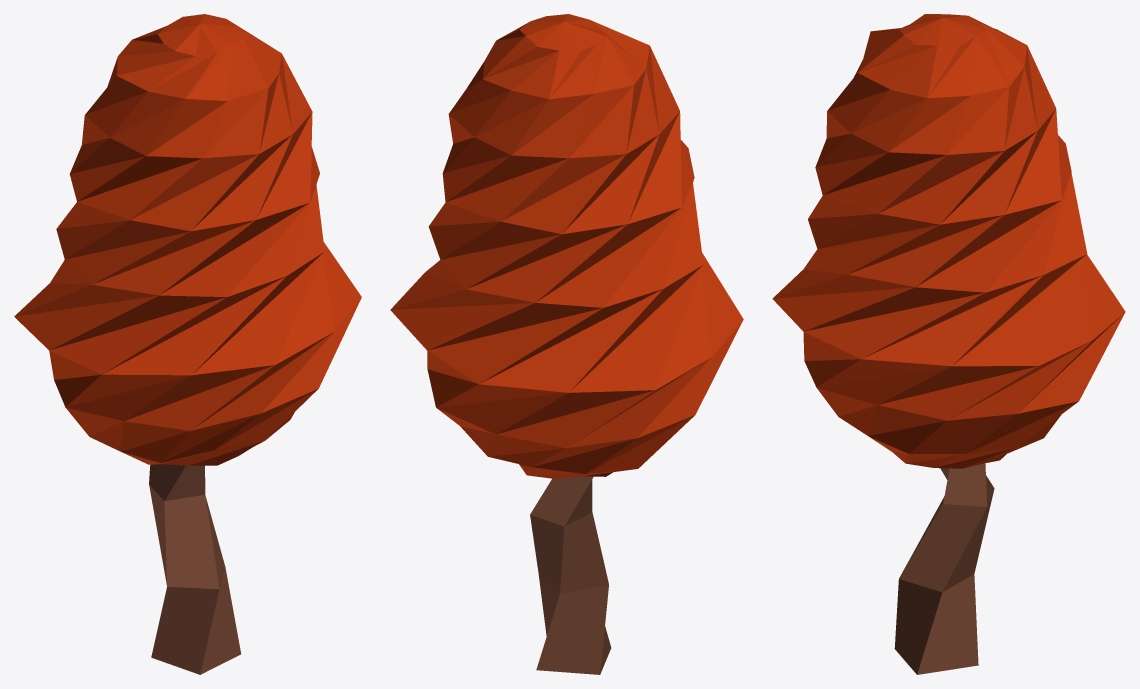
Rendered from Tree_14_summer_red_vc.fbx.
The picture shows the model from 3 angles, left to right: view 1: azimuth 30°, elevation 25°; view 2: azimuth 150°, elevation 25°; view 3: azimuth 270°, elevation 25°; orthographic projection. The views are drawn at different scales.
Parts seen in each view (by area): view 1: Tree_14_summer_red_vc; view 2: Tree_14_summer_red_vc; view 3: Tree_14_summer_red_vc.
Part boxes in pixels (box(x1,y1,x2,y2)): Tree_14_summer_red_vc: box(14, 14, 361, 674); Tree_14_summer_red_vc: box(390, 14, 743, 674); Tree_14_summer_red_vc: box(772, 14, 1125, 674).
Size of the model in its own units: 104 by 223 by 111.
